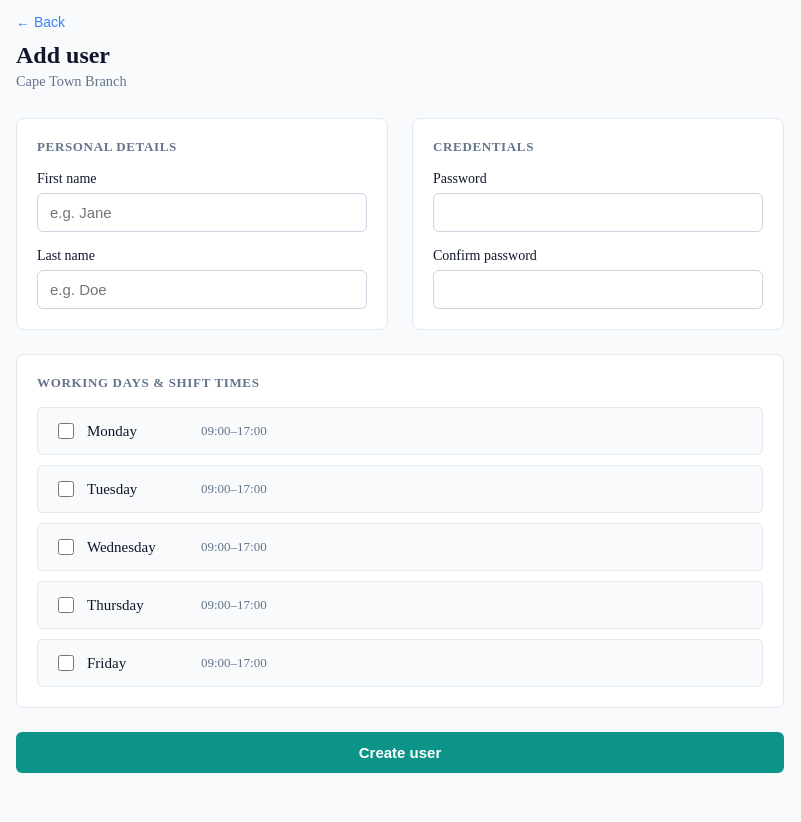
Test: AddUserView › shows working-times-error and blocks submit when no day is ticked
Type "Jane" into the field with test id "first-name-input" at (202, 212), box left=37, top=193, right=367, bottom=232
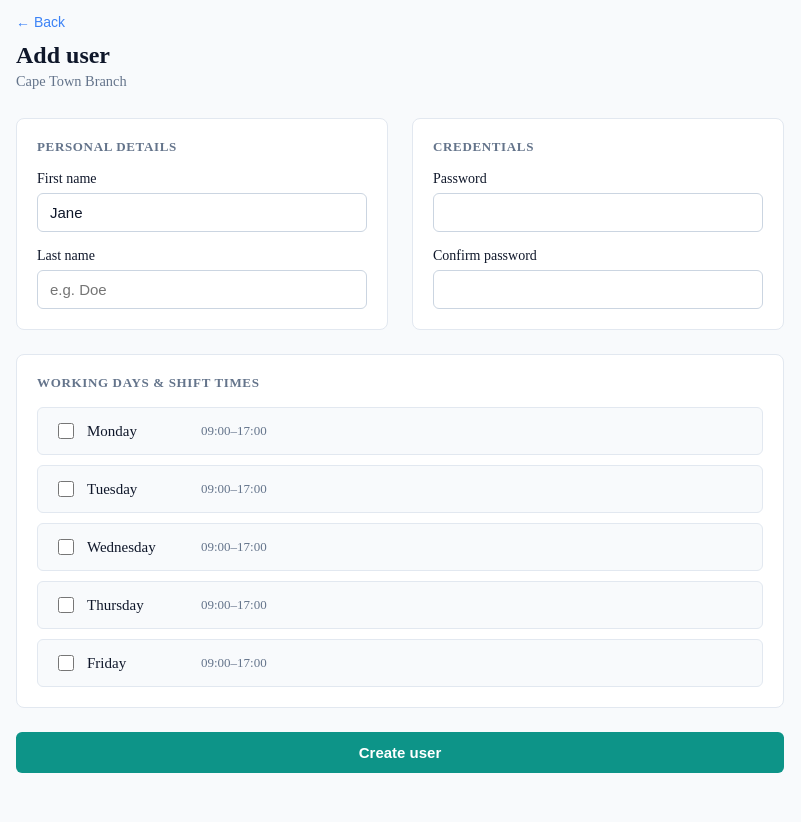
Type "Doe" into the field with test id "last-name-input" at (202, 290), box left=37, top=270, right=367, bottom=309
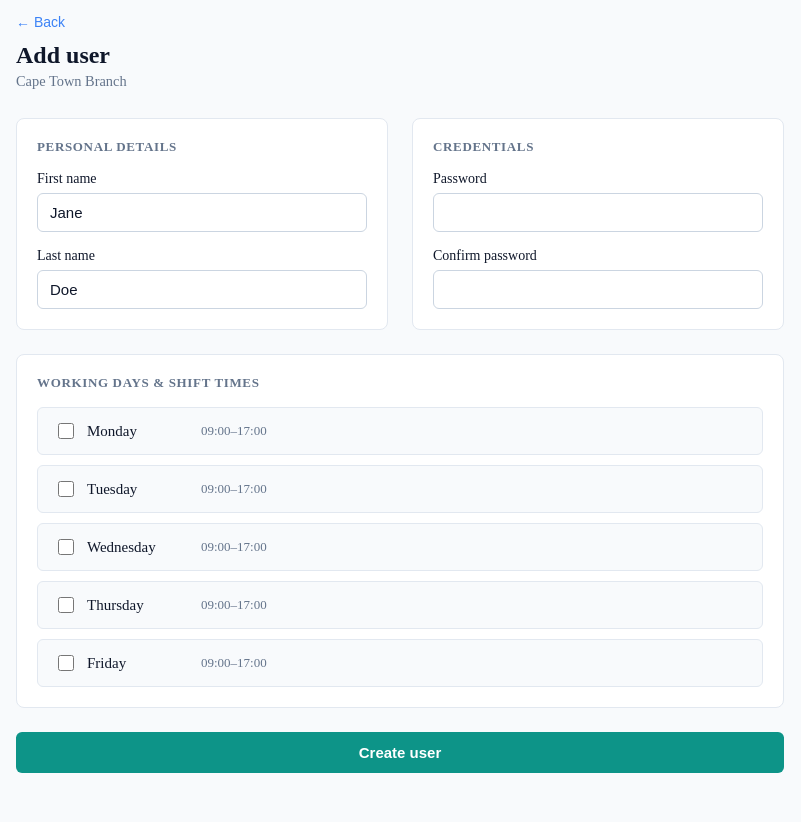
Type "secret99" into the password field with test id "password-input" at (598, 212), box left=433, top=193, right=763, bottom=232
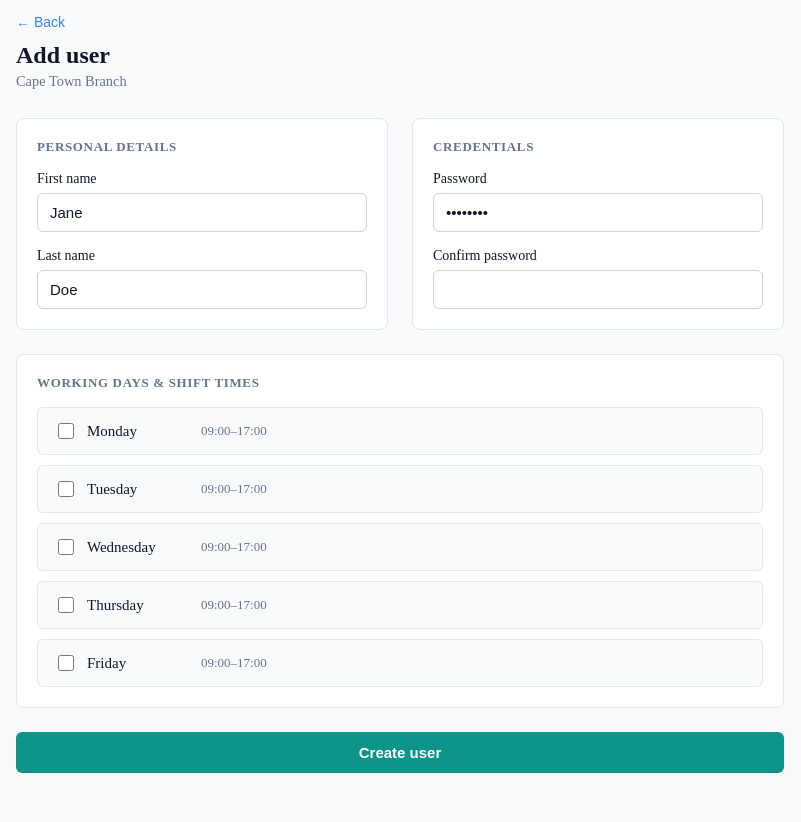
Type "secret99" into the password field with test id "confirm-password-input" at (598, 290), box left=433, top=270, right=763, bottom=309
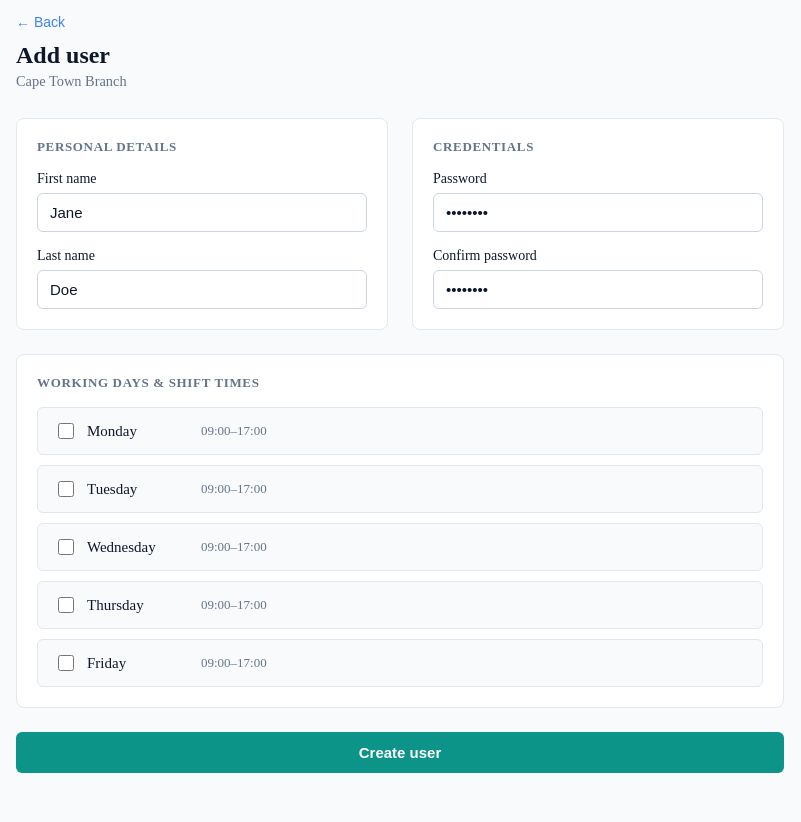
Submit the form with test id "add-user-form"
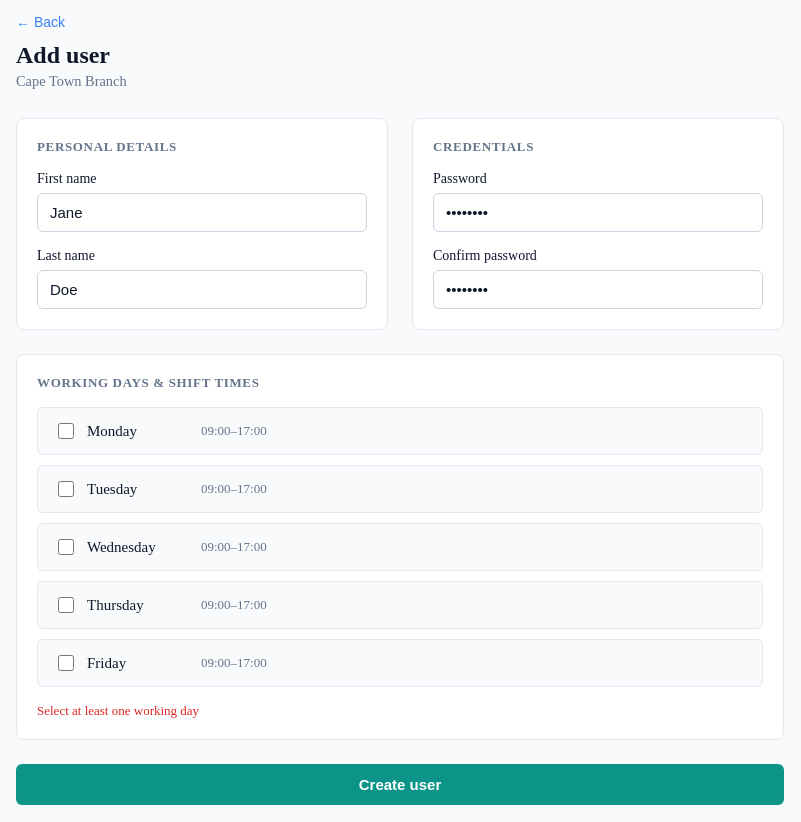
Expected: the text "Select at least one working day" is shown, left=37, top=703, right=199, bottom=718
